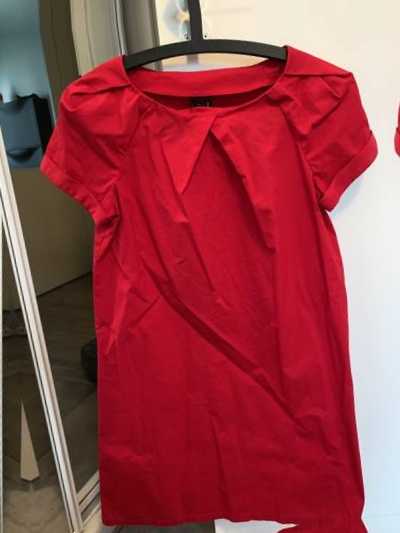Dress: (19, 18, 400, 533), (375, 0, 400, 507), (73, 515, 400, 533), (0, 0, 365, 11), (0, 64, 3, 533)
